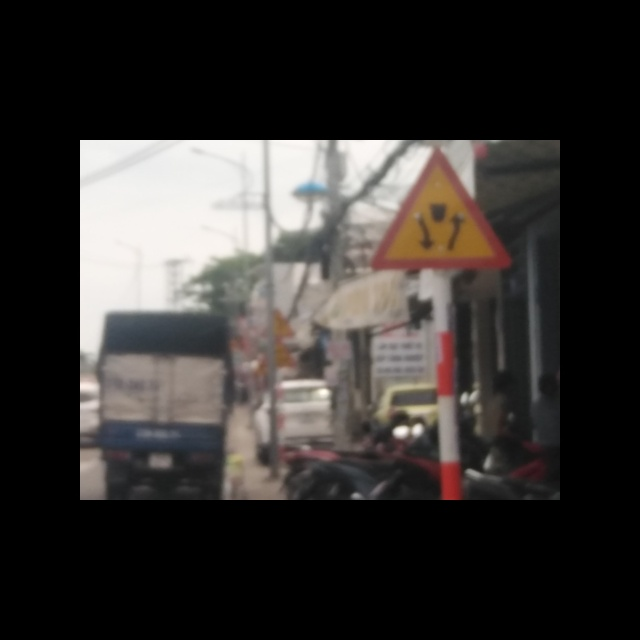Đường đôi: (371, 146, 513, 274)
